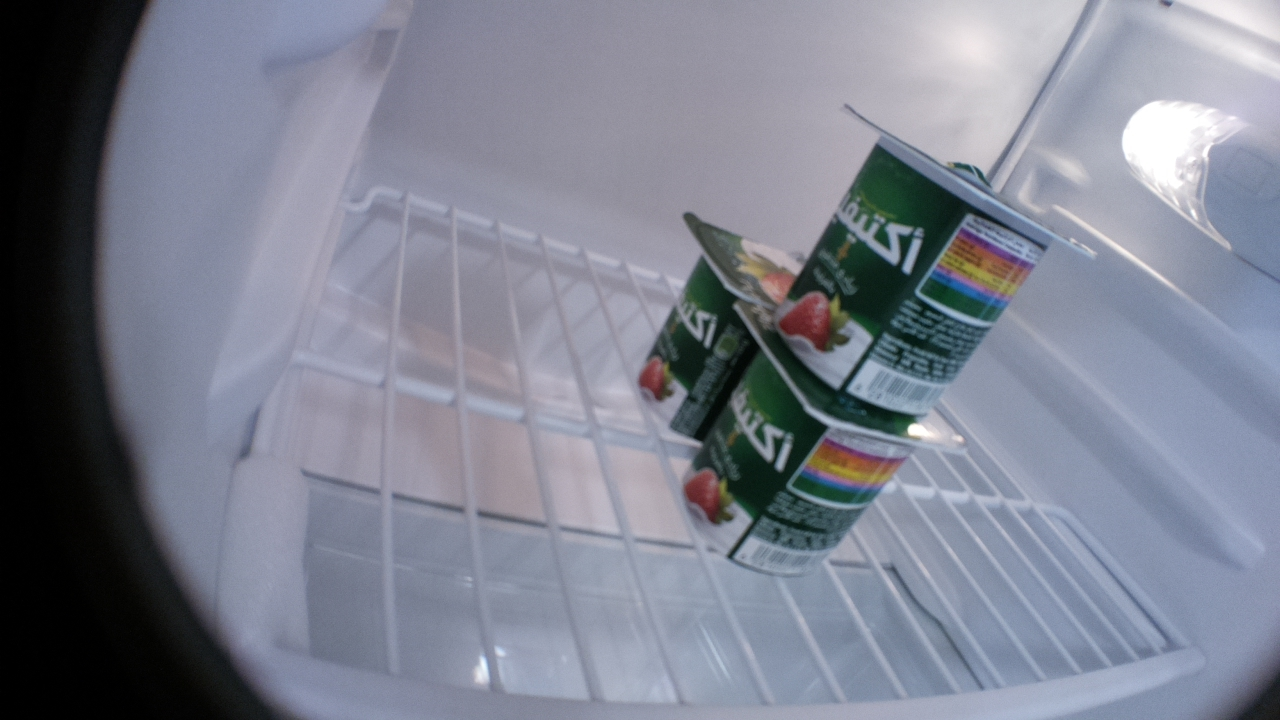yoghurt: (771, 99, 1094, 415), (677, 301, 964, 579), (633, 210, 807, 445)
